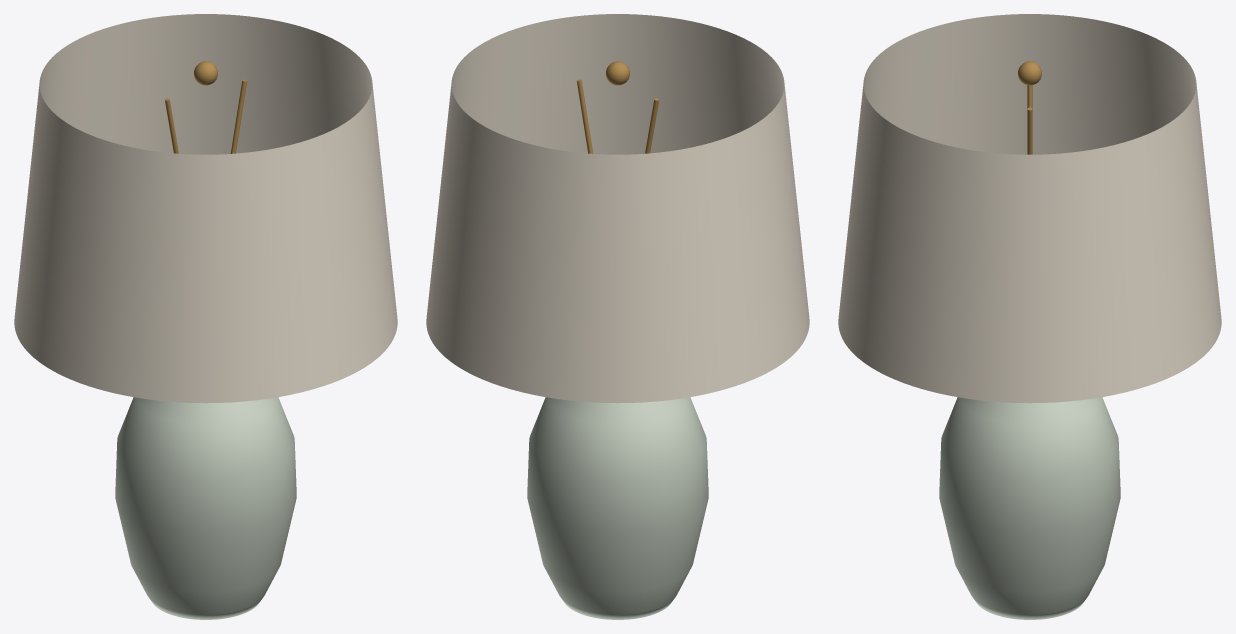
The model's file is house-bedside-lamp-42da7f4e.glb.
3 renders of one model, left to right at view 1: azimuth 30°, elevation 25°; view 2: azimuth 150°, elevation 25°; view 3: azimuth 270°, elevation 25°, orthographic.
Parts seen in each view (by area): view 1: shade, base; view 2: shade, base; view 3: shade, base.
Boxes of the visible parts, box(x1,y1,x2,y2) form: shade: box(14, 14, 397, 403); base: box(115, 397, 296, 619); shade: box(426, 14, 809, 403); base: box(527, 397, 708, 619); shade: box(838, 14, 1221, 403); base: box(939, 397, 1120, 619).
Size of the model in its own units: 0.38 by 0.584 by 0.38.
